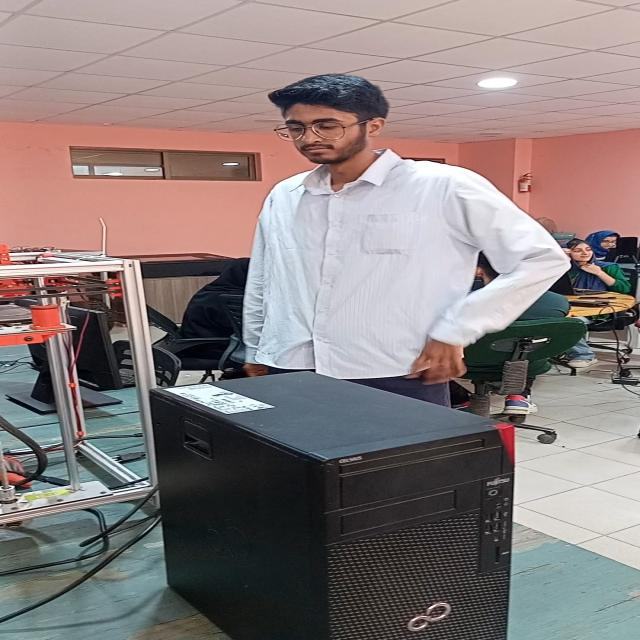dress: (240, 148, 567, 406)
glasses: (273, 120, 363, 144)
